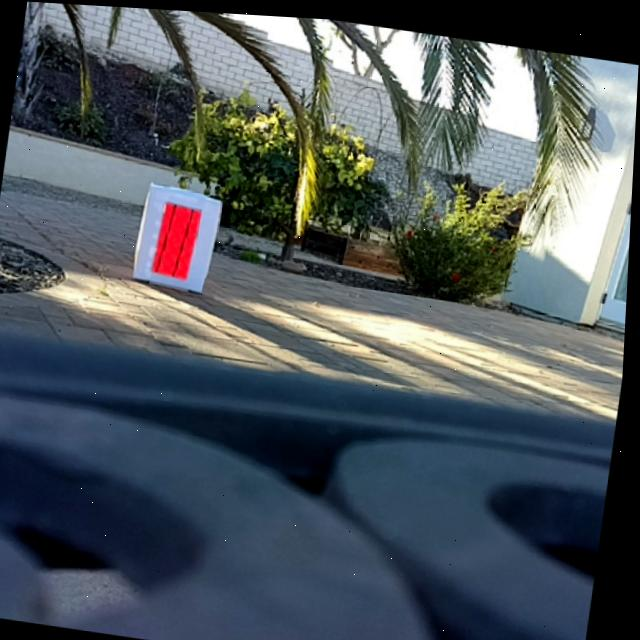led: (153, 197, 204, 279)
